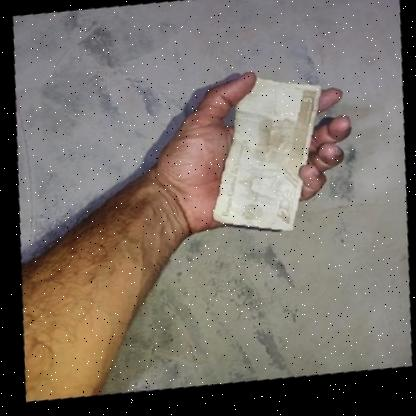vef_back: (198, 71, 336, 247)
